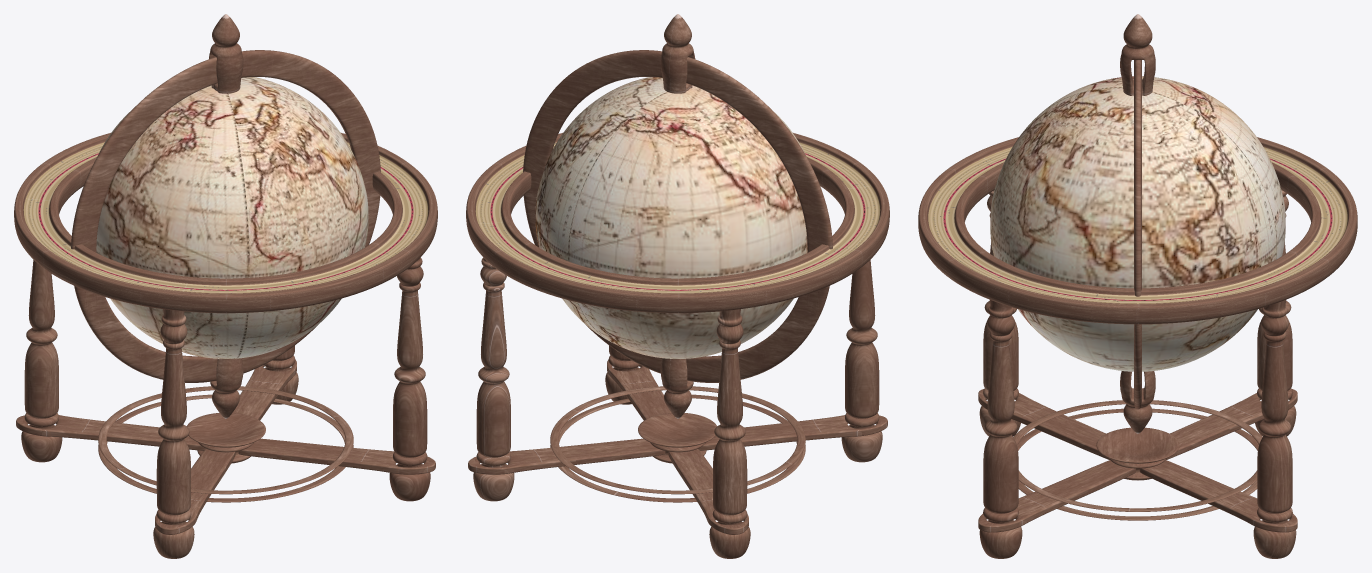
Rendered from simplistic_globe.glb.
The picture shows the model from 3 angles, left to right: view 1: azimuth 30°, elevation 25°; view 2: azimuth 150°, elevation 25°; view 3: azimuth 270°, elevation 25°; orthographic projection. The views are drawn at different scales.
Parts seen in each view (by area): view 1: Base, Globe, Axis; view 2: Base, Globe, Axis; view 3: Base, Globe, Axis.
Part boxes in pixels (x1,y1,x2,y2): Base: [14, 50, 437, 558]; Globe: [96, 77, 368, 358]; Axis: [209, 14, 243, 418]; Base: [466, 50, 889, 558]; Globe: [535, 77, 807, 358]; Axis: [660, 14, 695, 418]; Base: [918, 60, 1357, 558]; Globe: [990, 76, 1285, 371]; Axis: [1120, 14, 1155, 433].
Bounding box in the file's own units: 295 × 356 × 295.
Materials: 3 (3 with a texture image).
